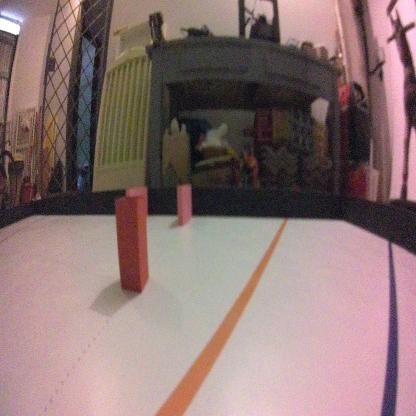magenta: (176, 180, 192, 226)
red: (113, 193, 150, 290)
